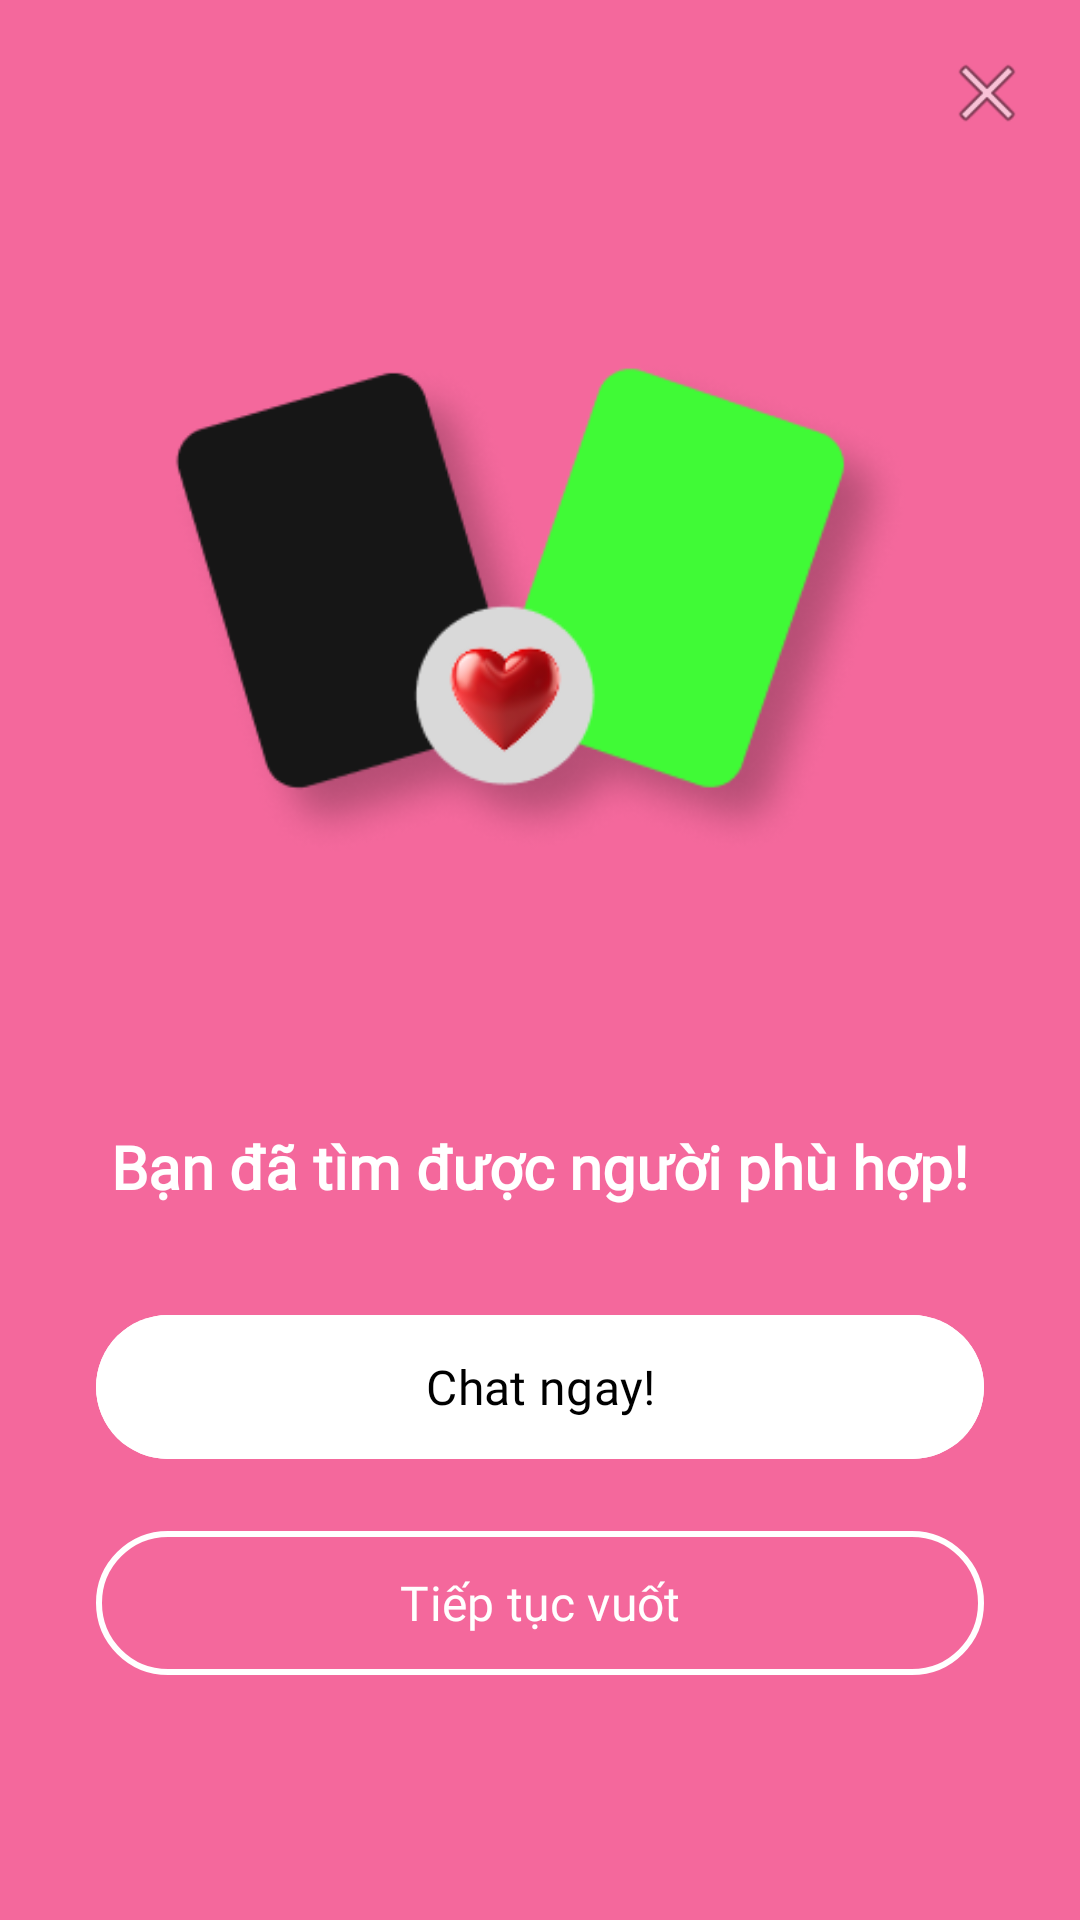

Point at icon controls on the screen. Image size 1080px x 1920px, points as (x,y).
close clear cancel: (987,93)
